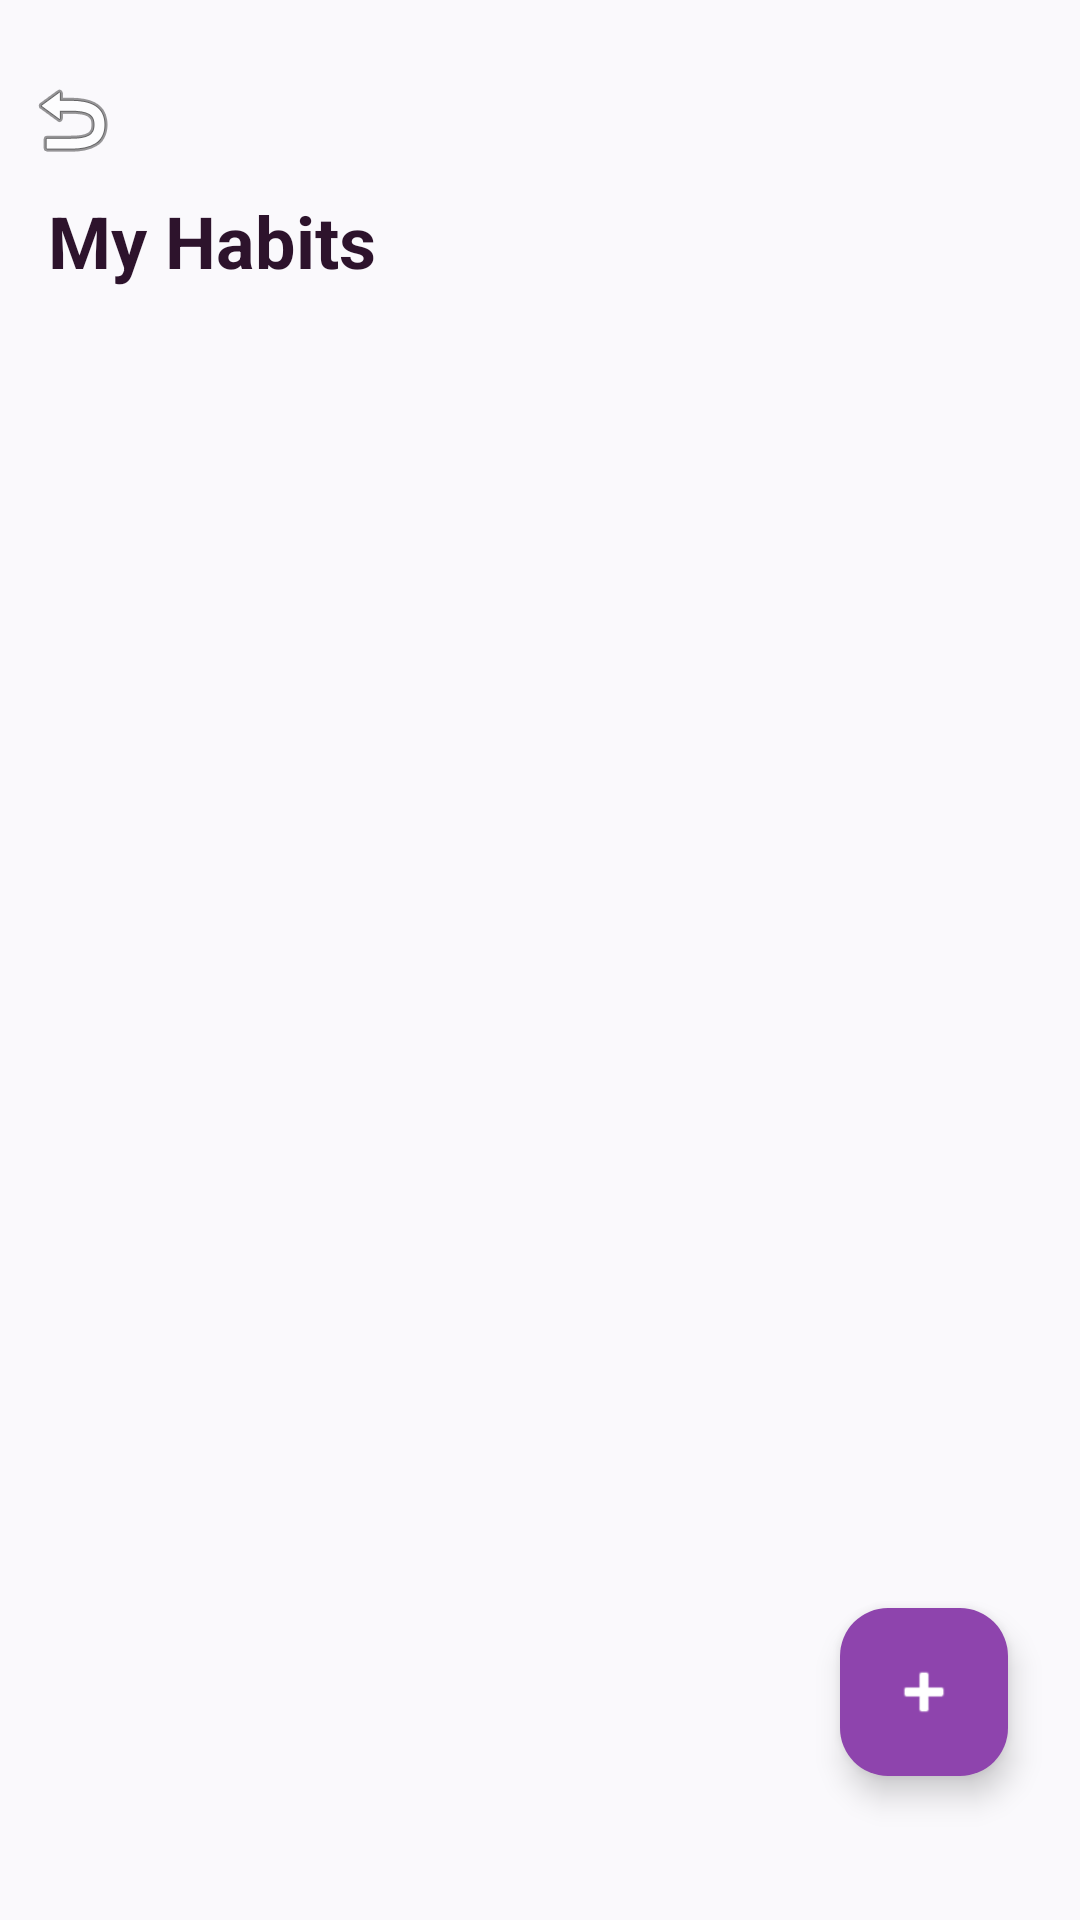

Where to tap for icons on this 1080*1920 app screen, as point (x, y):
add: point (924, 1692)
Back: point (73, 120)
